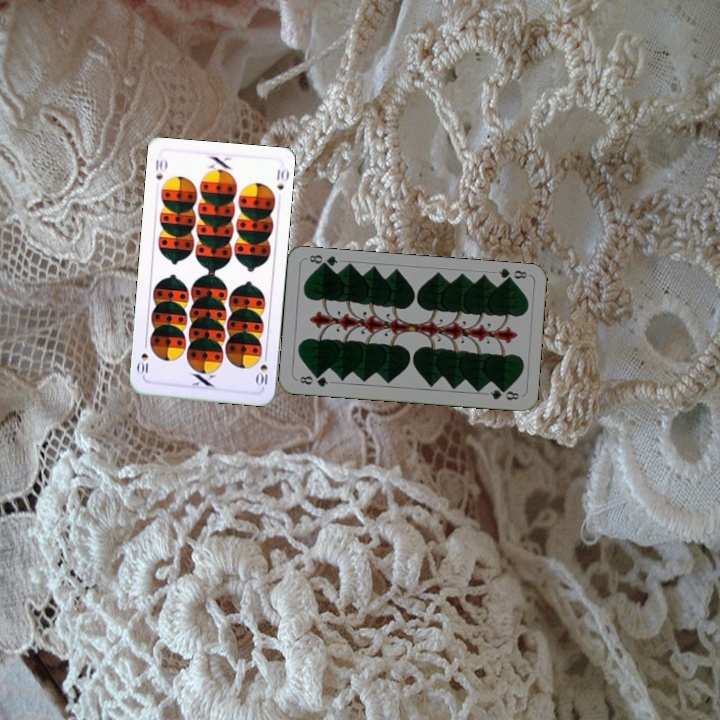G8: (494, 264, 530, 285), (295, 371, 330, 390)
S10: (253, 350, 270, 388), (151, 155, 169, 182)
